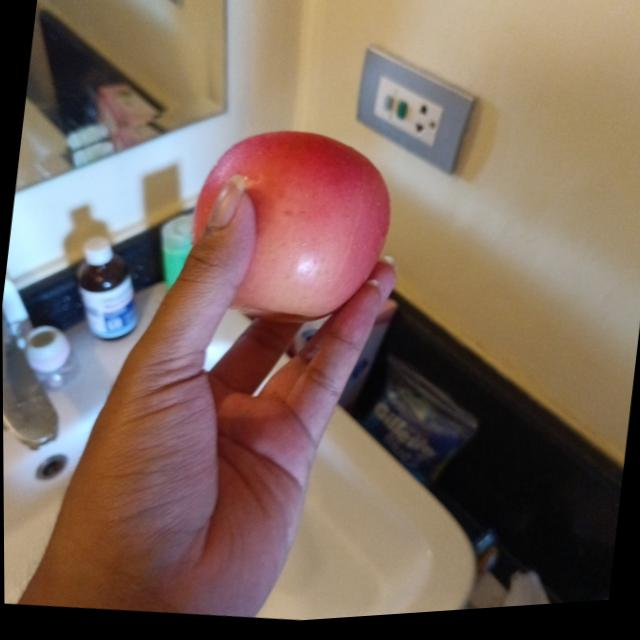apple: (183, 117, 399, 335)
